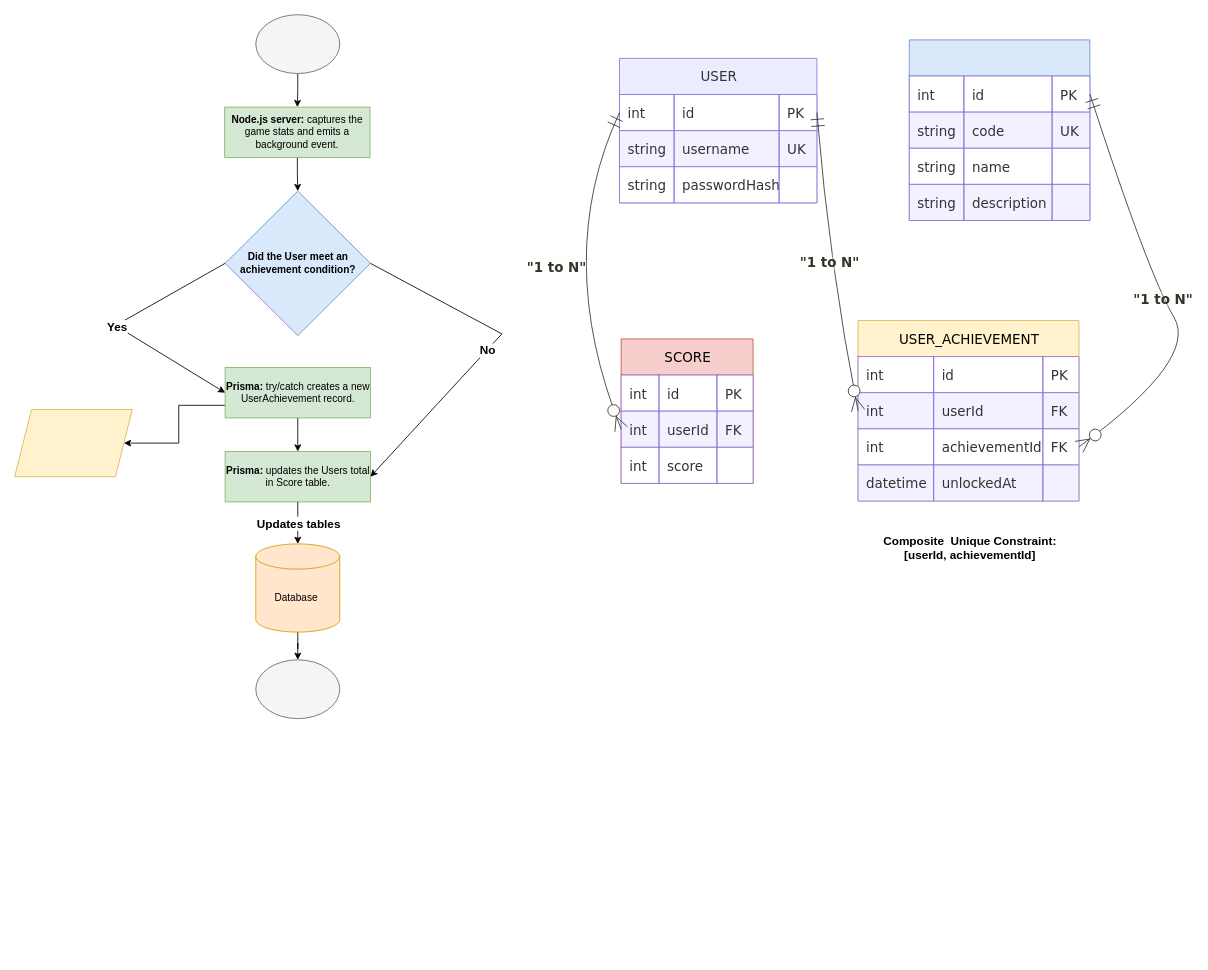
This 1208x970 diagram has some shape labels left out. The box of each missing label's shape, as (x1, y1, x2, y2) in pixels:
ACHIEVEMENT: (908, 39, 1090, 220)
Match ends: (255, 14, 340, 74)
Output: Express sends the user a "Achievement Unlocked" to user.: (14, 409, 132, 477)
Save complete: (255, 659, 340, 719)
